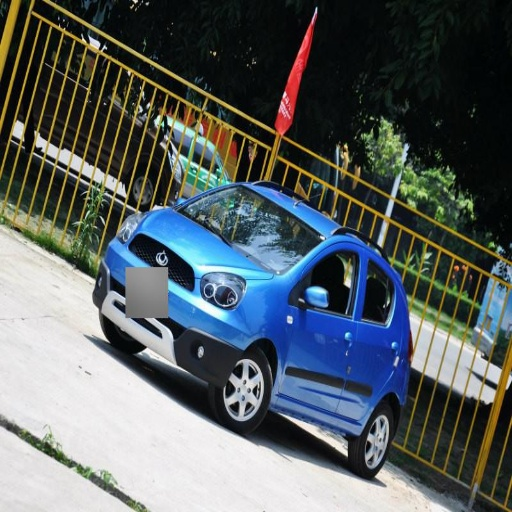front_bumper: (101, 253, 171, 331), (164, 331, 212, 380)
front_left_door: (283, 237, 356, 412)
